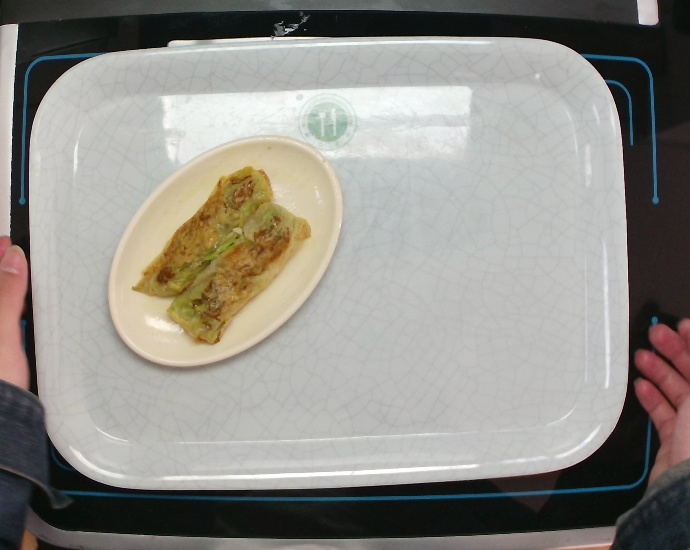JYsf-Tuo_Yuan_Wan: (100, 129, 346, 370)
